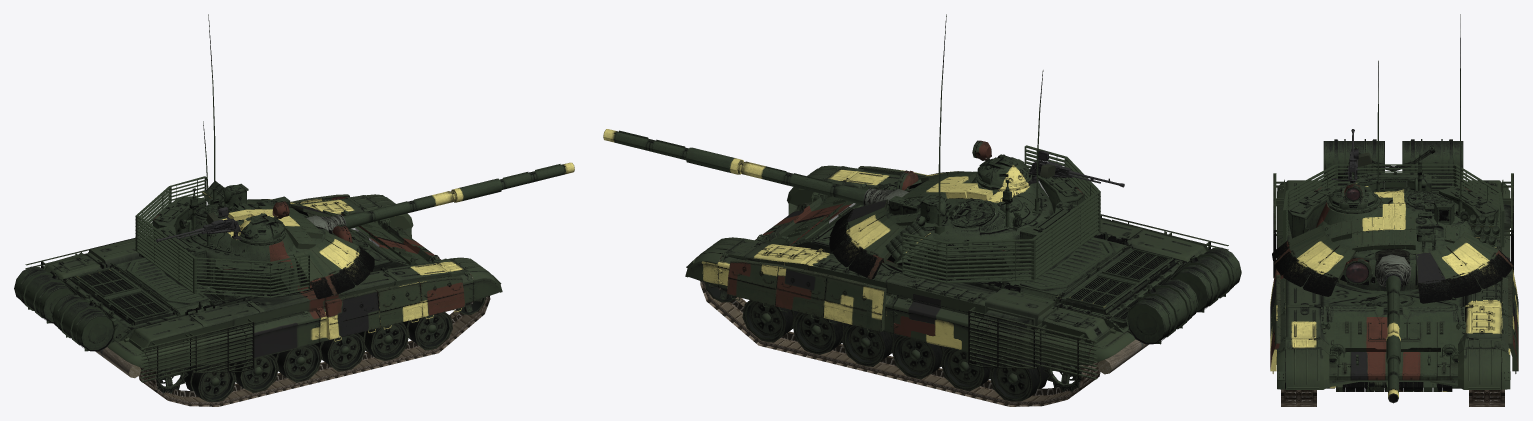
The model's file is t-72amt.glb.
The picture shows the model from 3 angles, left to right: view 1: azimuth 30°, elevation 25°; view 2: azimuth 150°, elevation 25°; view 3: azimuth 270°, elevation 25°; orthographic projection. The views are drawn at different scales.
Parts seen in each view (by area): view 1: guard, turret, hullb, gear533, track03, slat2, slat3.001, weapon, hull, slat3.002, era22.001, era21.001 (+27 smaller); view 2: guard, turret, hullb, gear533, track2, slat3.001, slat, slat3.002, weapon, hull, era25.001, era24.001 (+26 smaller); view 3: guard, turret, hull, gear533, slat3.001, weapon, era2, era6, era7, era8, era3, sosna-u (+51 smaller).
Boxes of the visible parts, x1,y1,x2,y2 form: guard: (44,194,502,360); turret: (152,189,328,294); hullb: (61,257,222,341); gear533: (14,266,115,351); track03: (138,273,490,406); slat2: (140,321,254,382); slat3.001: (135,176,309,279); weapon: (343,162,574,228); hull: (62,210,439,375); slat3.002: (135,194,309,297); era22.001: (325,289,380,341); era21.001: (376,281,422,329); guard: (685,165,1206,357); turret: (885,169,1084,278); hullb: (1014,233,1187,333); gear533: (1126,247,1241,344); track2: (700,255,1100,406); slat3.001: (902,145,1100,263); slat: (968,310,1098,379); slat3.002: (902,165,1100,283); weapon: (603,129,867,205); hull: (756,183,1186,371); era25.001: (823,274,886,333); era24.001: (775,265,828,319); guard: (1277,180,1510,389); turret: (1288,172,1498,291); hull: (1310,181,1464,390); gear533: (1323,139,1463,180); slat3.001: (1283,164,1504,229); weapon: (1384,274,1402,403); era2: (1303,245,1355,296); era6: (1415,251,1452,303); era7: (1430,247,1481,298); era8: (1446,240,1502,288); era3: (1283,238,1339,286); sosna-u: (1416,199,1454,251).
Size of the model in its own units: 9.67 by 5.46 by 3.83.
24 materials, 23 textured.
